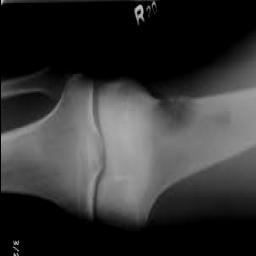cancer: (146, 95, 232, 142)
